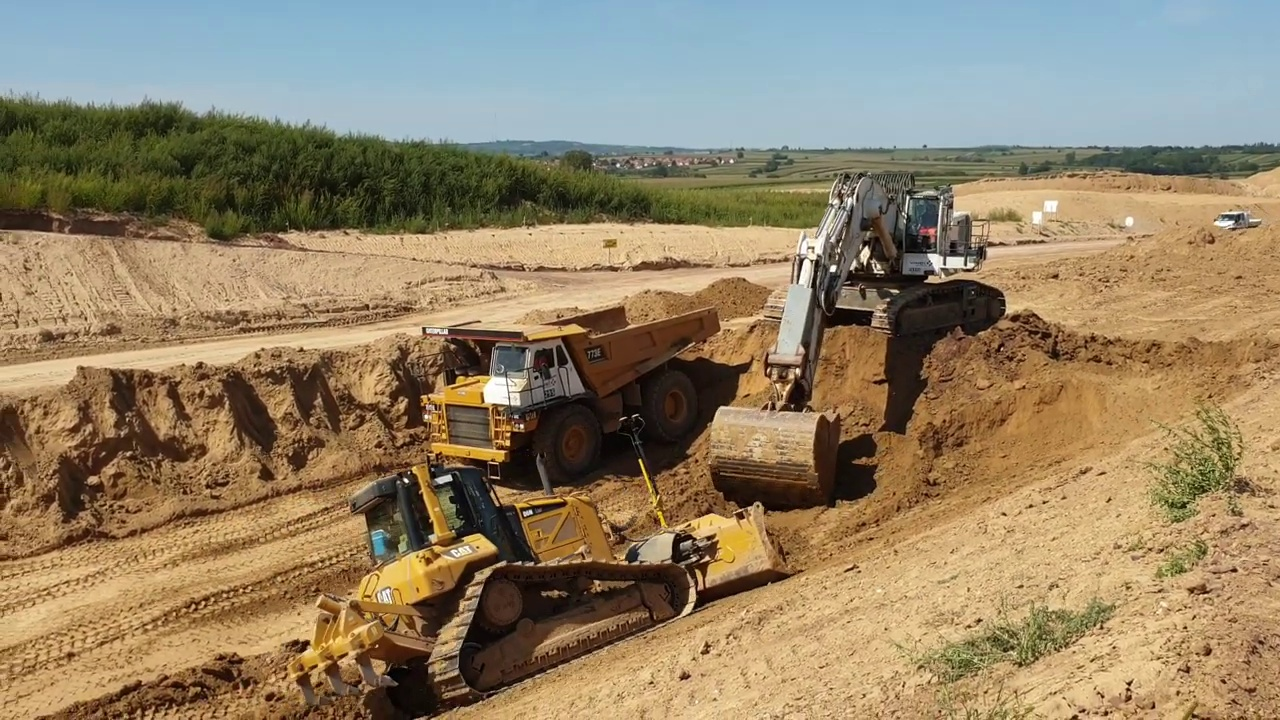bulldozer: (288, 412, 801, 720)
excavator: (709, 165, 1008, 505)
truck: (421, 300, 722, 493), (1211, 203, 1268, 244)
